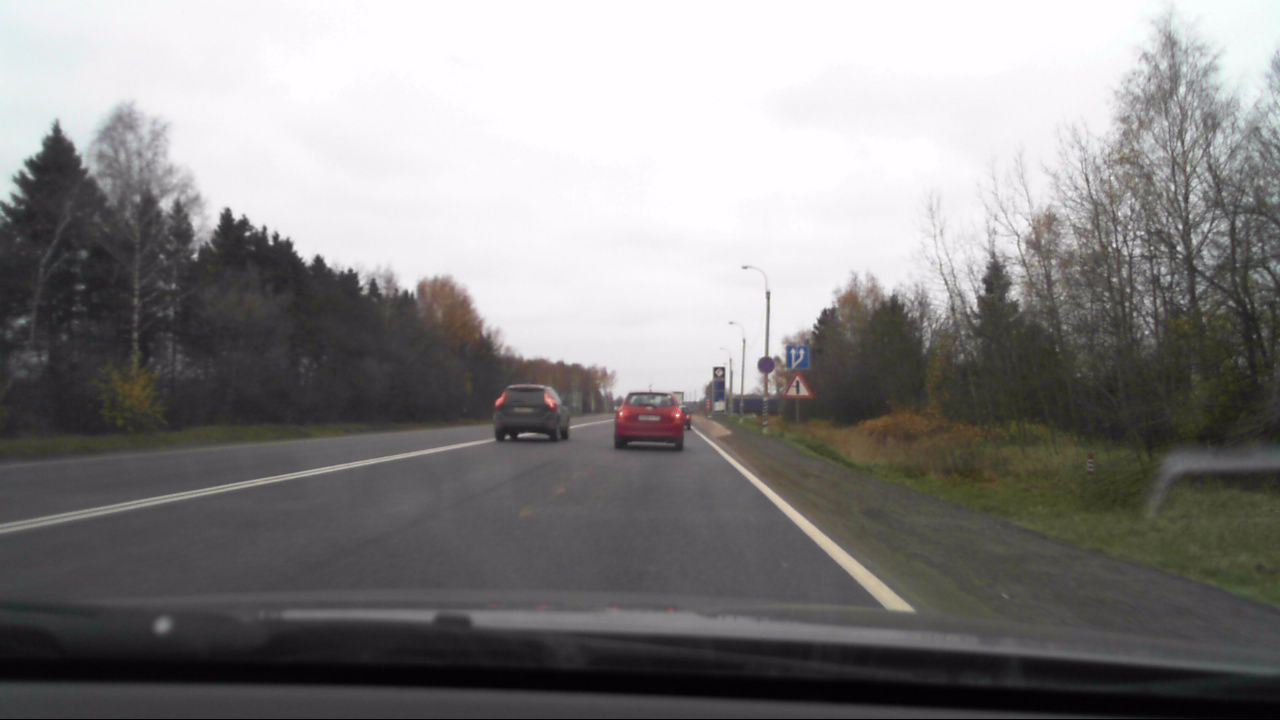No Parking: (754, 354, 777, 375)
